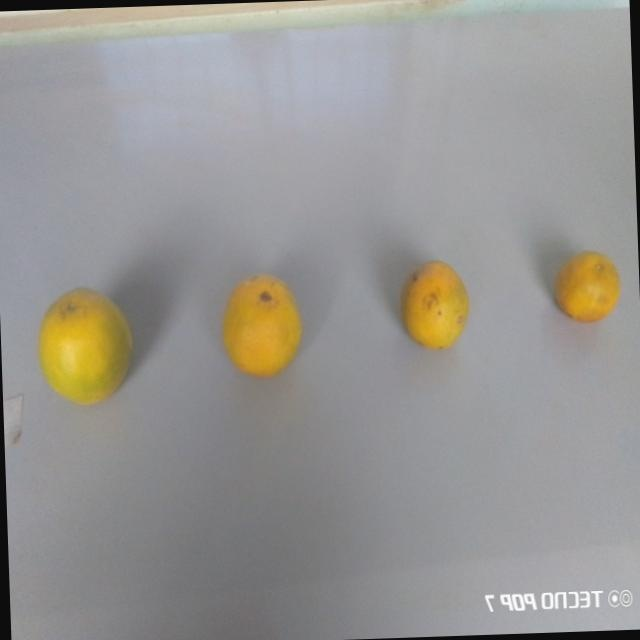agrume: (36, 274, 140, 418), (214, 269, 306, 386), (394, 253, 478, 356), (552, 246, 624, 325)
